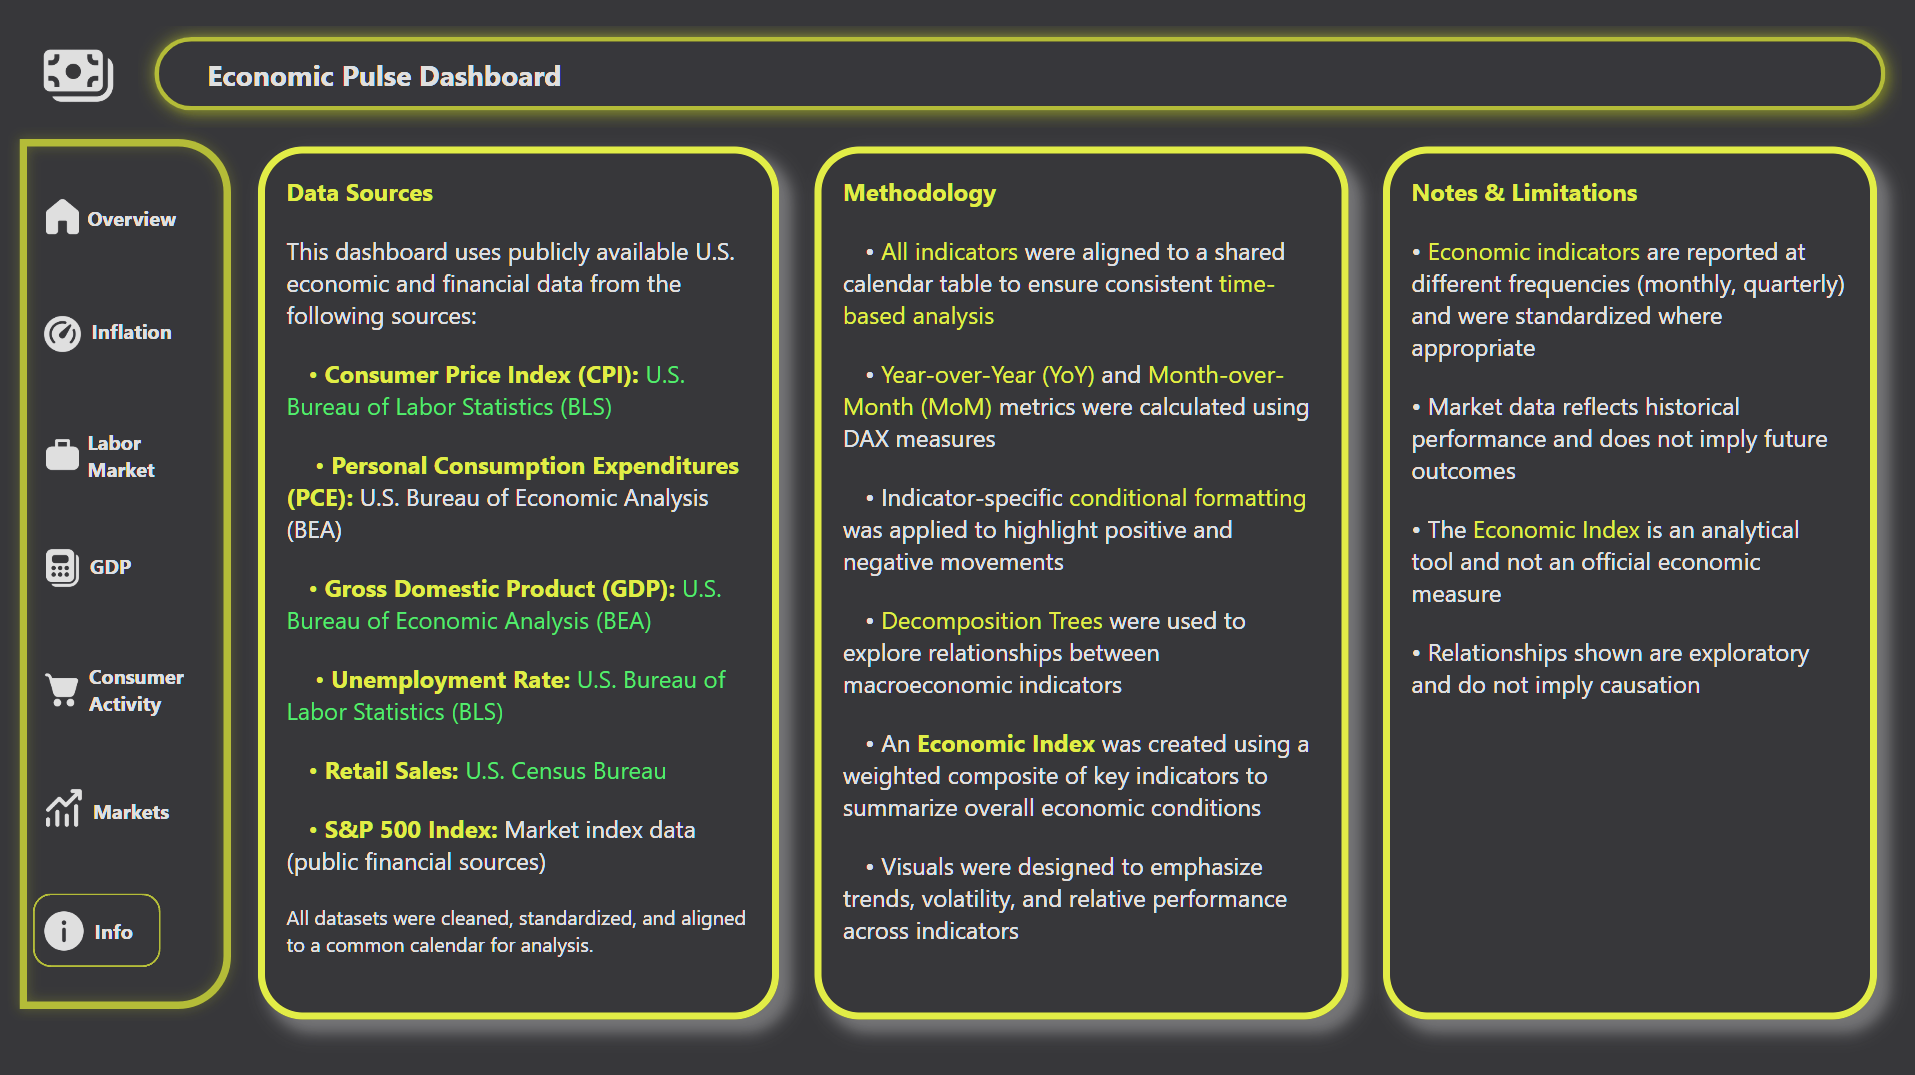

This screenshot's page, from the dashboard's own definition file:
{"tool":"powerbi","page":{"name":"Data Sources & Methodology","canvas":[1280,720],"ordinal":6},"visuals":[{"type":"shape","title":"Economic Pulse Dashboard","box":[94.1,14.9,1176.2,70.8],"z":0},{"type":"image","box":[29.2,195.4,29.6,58.1],"z":0,"group":"g2"},{"type":"image","box":[14.4,23.2,80,54.4],"z":1000},{"type":"textbox","box":[38.6,207.6,102.6,51.8],"z":1000,"group":"g2"},{"type":"shape","box":[6.6,85.8,157.2,595.8],"z":2000},{"type":"shape","box":[17.4,201,104.4,47.4],"z":2000,"group":"g2"},{"type":"group","id":"g1","title":"Group 3","box":[23.4,116.7,112.1,79.1],"z":3000},{"type":"image","box":[29.2,116.7,29.6,58.1],"z":4000,"group":"g1"},{"type":"group","id":"g2","title":"Group 4","box":[17.4,195.4,123.8,64],"z":4000},{"type":"textbox","box":[56.5,436.7,76.2,69.6],"z":4000,"group":"g7"},{"type":"group","id":"g3","title":"Group 10","box":[14.4,351.2,104.4,69.6],"z":5000},{"type":"image","box":[29.2,351.2,29.6,58.1],"z":5000,"group":"g4"},{"type":"image","box":[29.2,276.1,29.6,58.1],"z":6000,"group":"g10"},{"type":"group","id":"g4","title":"Group 6","box":[29.2,351.2,80.9,69.6],"z":6000,"group":"g3"},{"type":"group","id":"g5","title":"Group 11","box":[25.2,432,107.5,74.4],"z":6000},{"type":"image","box":[29.2,432,29.6,58.1],"z":6000,"group":"g7"},{"type":"textbox","box":[44.2,131.8,91.3,64],"z":7000,"group":"g1"},{"type":"group","id":"g6","title":"Group 12","box":[22.2,511.4,125.6,76.2],"z":7000},{"type":"image","box":[29.2,511.4,29.6,58.1],"z":7000,"group":"g9"},{"type":"textbox","box":[41.4,364.4,68.7,56.5],"z":8000,"group":"g4"},{"type":"group","id":"g7","title":"Group 7","box":[29.2,432,103.5,74.4],"z":8000,"group":"g5"},{"type":"group","id":"g8","title":"Group 13","box":[24,593.2,102.2,59.3],"z":8000},{"type":"textbox","box":[54.6,280.8,90.4,89.4],"z":9000},{"type":"group","id":"g9","title":"Group 8","box":[29.2,511.4,118.6,76.2],"z":9000,"group":"g6"},{"type":"image","box":[29.2,593.2,30.6,58.1],"z":9000,"group":"g11"},{"type":"group","id":"g10","title":"Group 5","box":[23.4,276.1,93,58.1],"z":10000},{"type":"textbox","box":[30.1,527.4,117.6,60.2],"z":10000,"group":"g9"},{"type":"group","id":"g11","title":"Group 9","box":[29.2,593.2,96.9,59.3],"z":10000,"group":"g8"},{"type":"shape","box":[23.4,124.2,104.4,47.4],"z":10001,"group":"g1"},{"type":"textbox","box":[173.5,99.3,347.9,581.9],"z":11000},{"type":"shape","box":[23.4,281.4,93,47.4],"z":11000,"group":"g10"},{"type":"textbox","box":[29.2,607.3,96.9,45.2],"z":11000,"group":"g11"},{"type":"textbox","box":[544.8,99.3,356.5,581.9],"z":12000},{"type":"shape","box":[14.4,357,104.4,47.4],"z":12002,"group":"g3"},{"type":"shape","box":[25.2,437.4,104.4,47.4],"z":12004,"group":"g5"},{"type":"shape","box":[22.2,516.6,104.4,47.4],"z":12006,"group":"g6"},{"type":"shape","box":[24,597.7,84.8,48.5],"z":12008,"group":"g8"},{"type":"textbox","box":[923.7,99.3,328.9,581.9],"z":13000}]}

Visuals, with their boxes in screenshot pixels (x1, y1, x2, y2), scaled from the page's 1280x720 canvas onto the 1915x1075 screenshot:
"Economic Pulse Dashboard" shape: box=[141, 22, 1900, 128]
image: box=[44, 292, 88, 378]
image: box=[22, 35, 141, 116]
textbox: box=[58, 310, 211, 387]
shape: box=[10, 128, 245, 1018]
shape: box=[26, 300, 182, 371]
"Group 3" group: box=[35, 174, 203, 292]
image: box=[44, 174, 88, 261]
"Group 4" group: box=[26, 292, 211, 387]
textbox: box=[85, 652, 199, 756]
"Group 10" group: box=[22, 524, 178, 628]
image: box=[44, 524, 88, 611]
image: box=[44, 412, 88, 499]
"Group 6" group: box=[44, 524, 165, 628]
"Group 11" group: box=[38, 645, 199, 756]
image: box=[44, 645, 88, 732]
textbox: box=[66, 197, 203, 292]
"Group 12" group: box=[33, 764, 221, 877]
image: box=[44, 764, 88, 850]
textbox: box=[62, 544, 165, 628]
"Group 7" group: box=[44, 645, 199, 756]
"Group 13" group: box=[36, 886, 189, 974]
textbox: box=[82, 419, 217, 553]
"Group 8" group: box=[44, 764, 221, 877]
image: box=[44, 886, 89, 972]
"Group 5" group: box=[35, 412, 174, 499]
textbox: box=[45, 787, 221, 877]
"Group 9" group: box=[44, 886, 189, 974]
shape: box=[35, 185, 191, 256]
textbox: box=[260, 148, 780, 1017]
shape: box=[35, 420, 174, 491]
textbox: box=[44, 907, 189, 974]
textbox: box=[815, 148, 1348, 1017]
shape: box=[22, 533, 178, 604]
shape: box=[38, 653, 194, 724]
shape: box=[33, 771, 189, 842]
shape: box=[36, 892, 163, 965]
textbox: box=[1382, 148, 1874, 1017]
